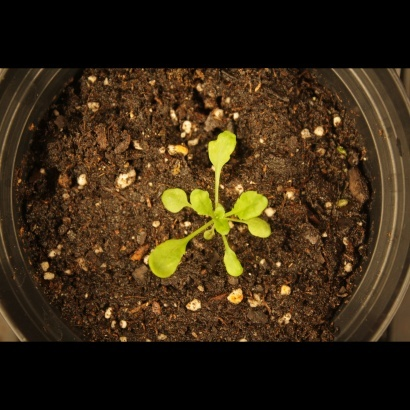leaf: (141, 237, 194, 284), (204, 128, 243, 174), (229, 186, 273, 223), (156, 179, 191, 221), (218, 246, 250, 281), (190, 182, 216, 219), (246, 214, 276, 243), (211, 216, 234, 239)
